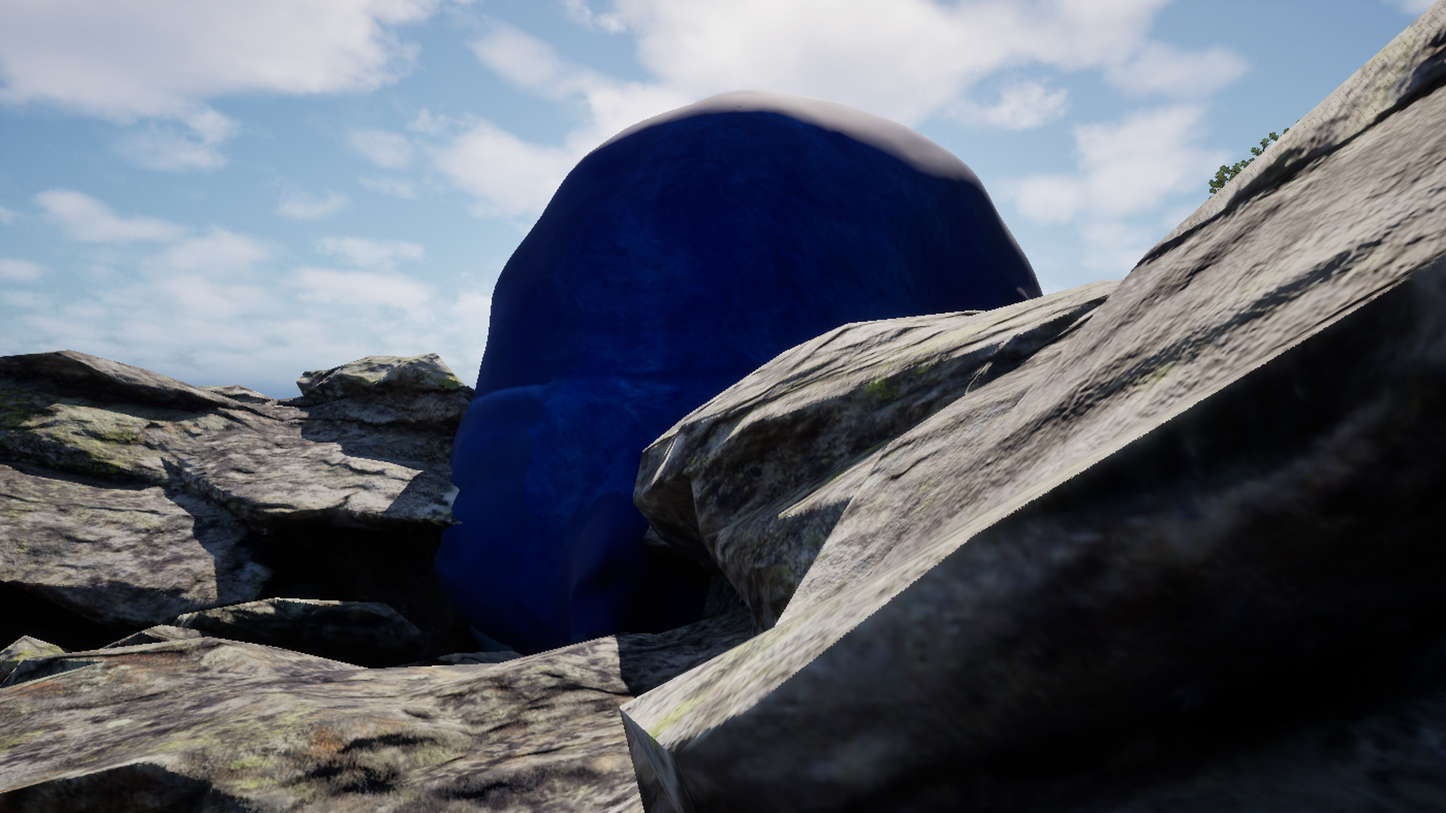Piplup: (209, 0, 1135, 813)
